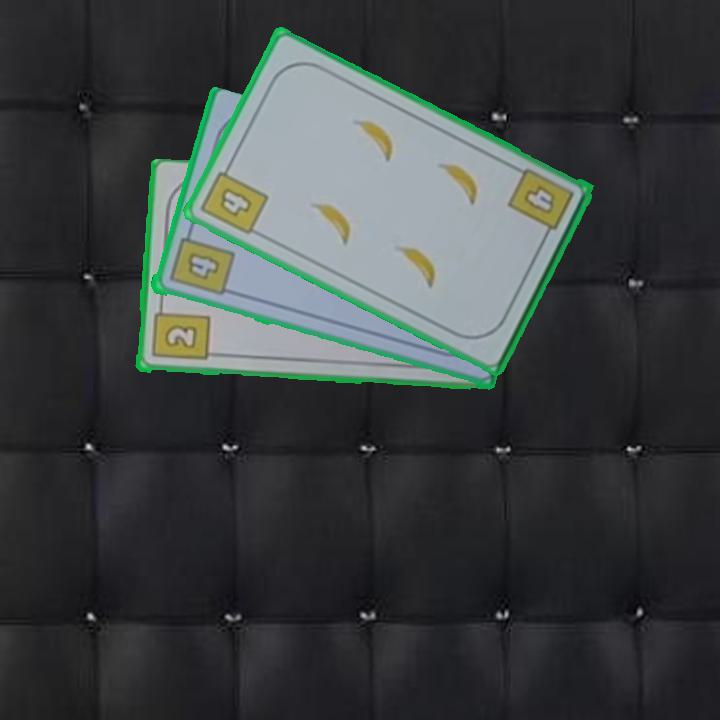2b: (148, 300, 211, 364)
4b: (197, 158, 272, 238), (504, 164, 577, 243), (165, 226, 236, 299)
